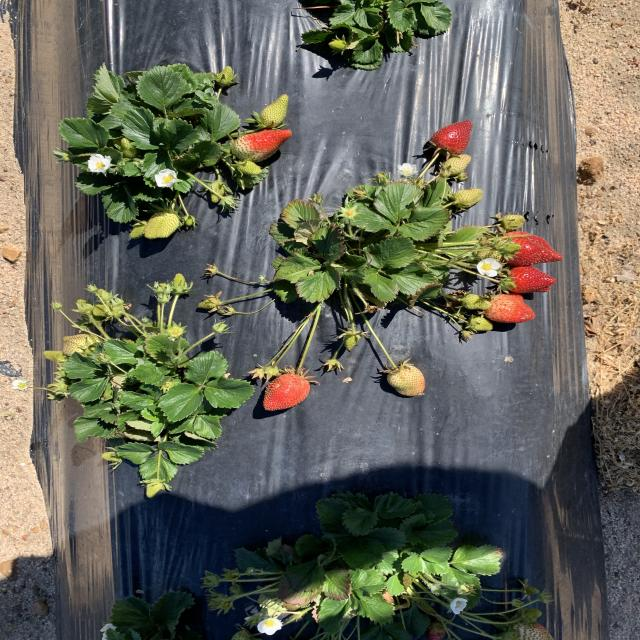unripe: (503, 230, 564, 266), (261, 373, 313, 412), (235, 128, 297, 160), (430, 118, 475, 156), (504, 266, 556, 292), (490, 296, 535, 322)
